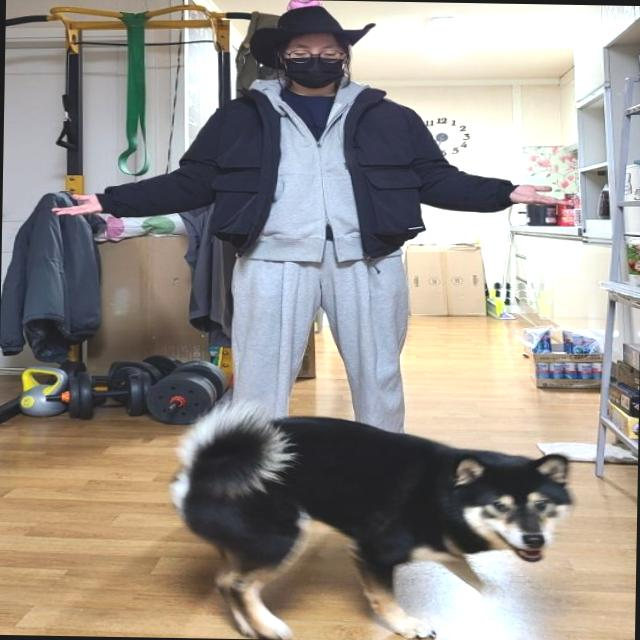padding: (101, 73, 520, 263)
trainingpants: (232, 247, 414, 433)
zipup: (244, 75, 370, 262)
